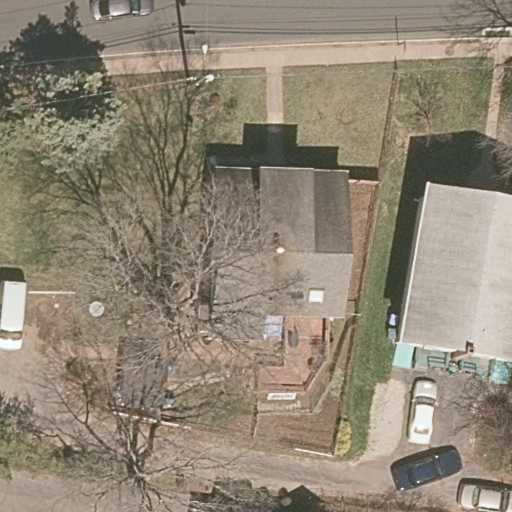DT: (186, 42, 215, 91)
